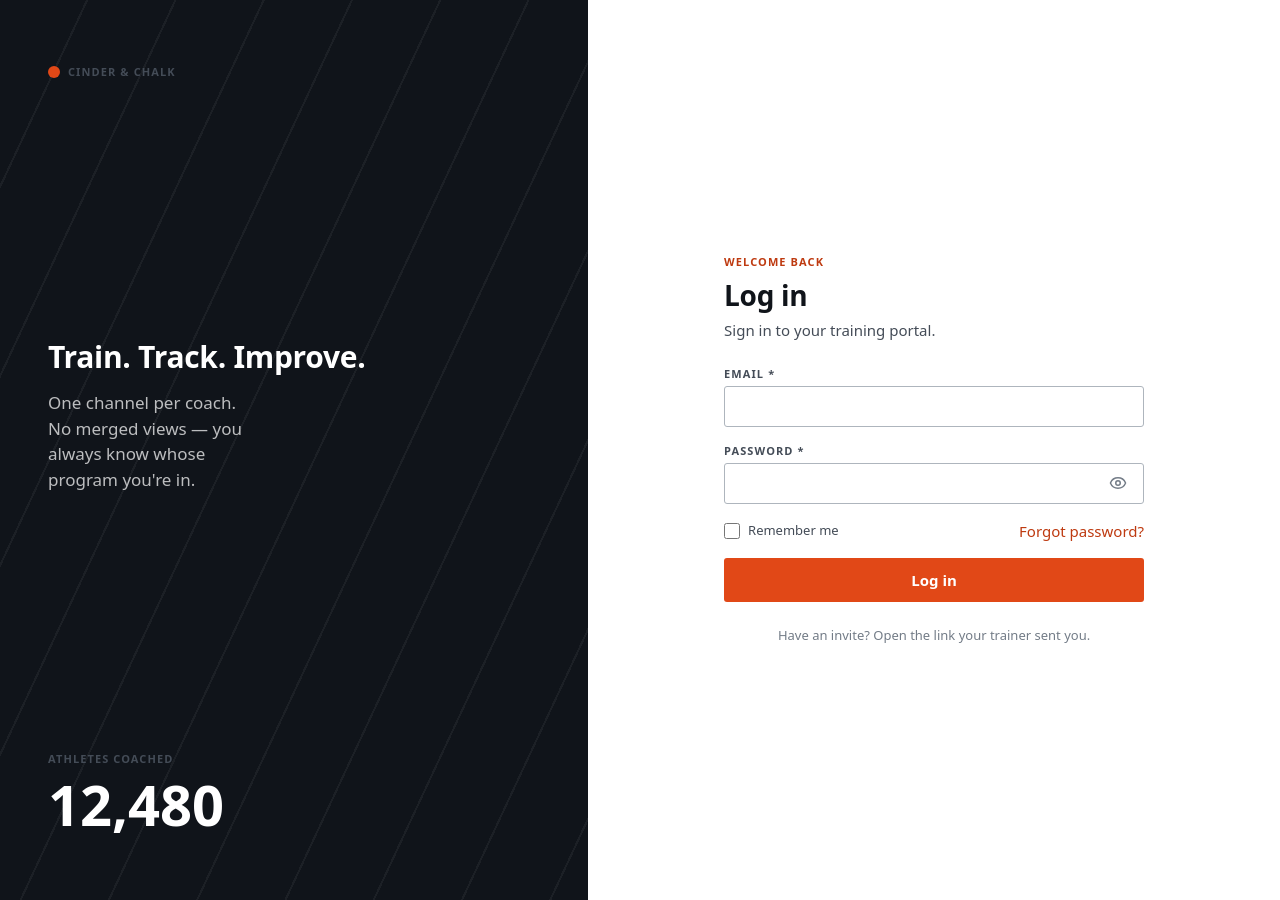
Login › distinguishes ACCOUNT_INACTIVE copy from invalid credentials (L3)
The width and height of the screenshot is (1280, 900).
Step 1. Type "dana@x.com" into the field labelled "Email *" → (934, 406), box [724,386,1144,427]
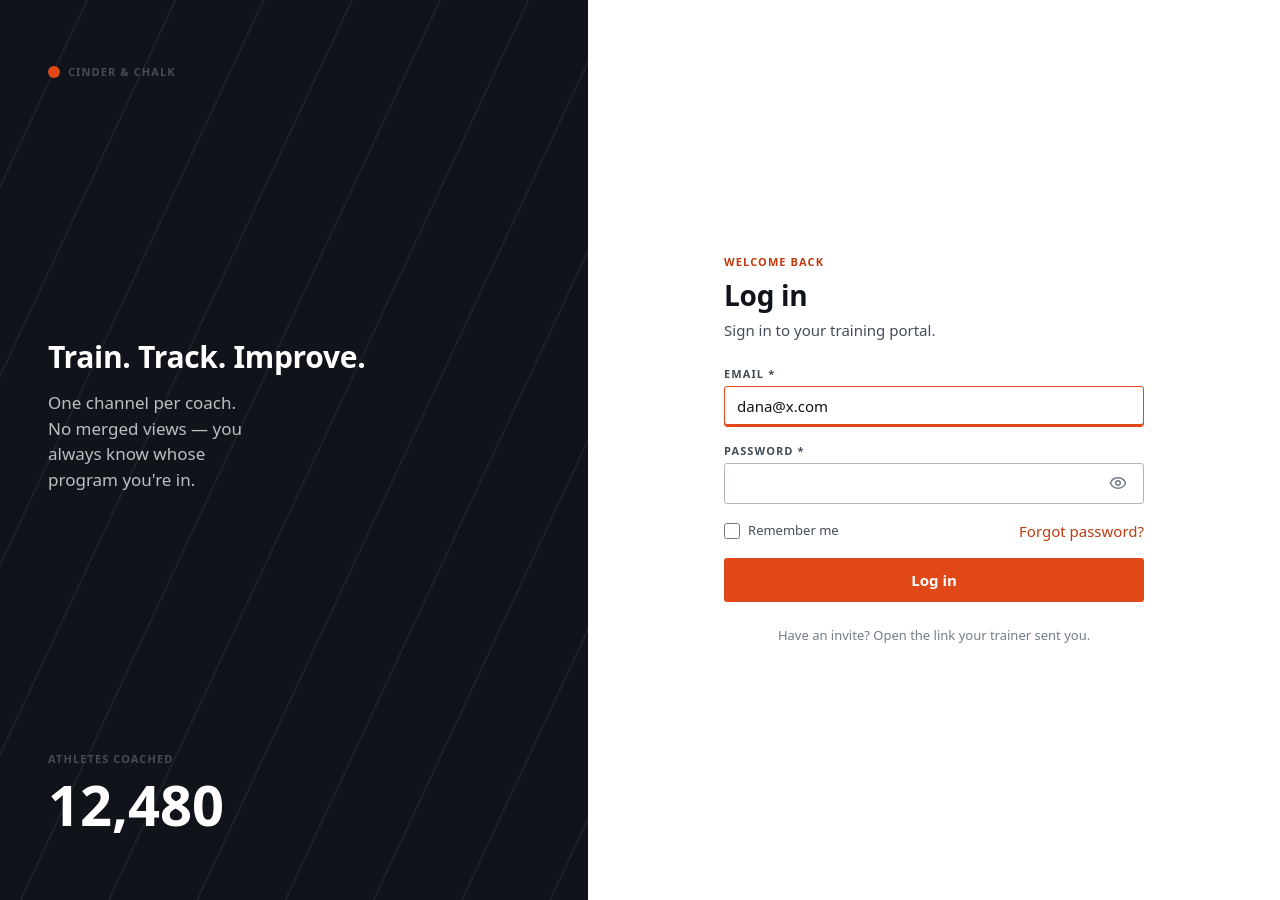
Step 2. Type "secret123" into the password field labelled "Password *" → (934, 483), box [724,463,1144,504]
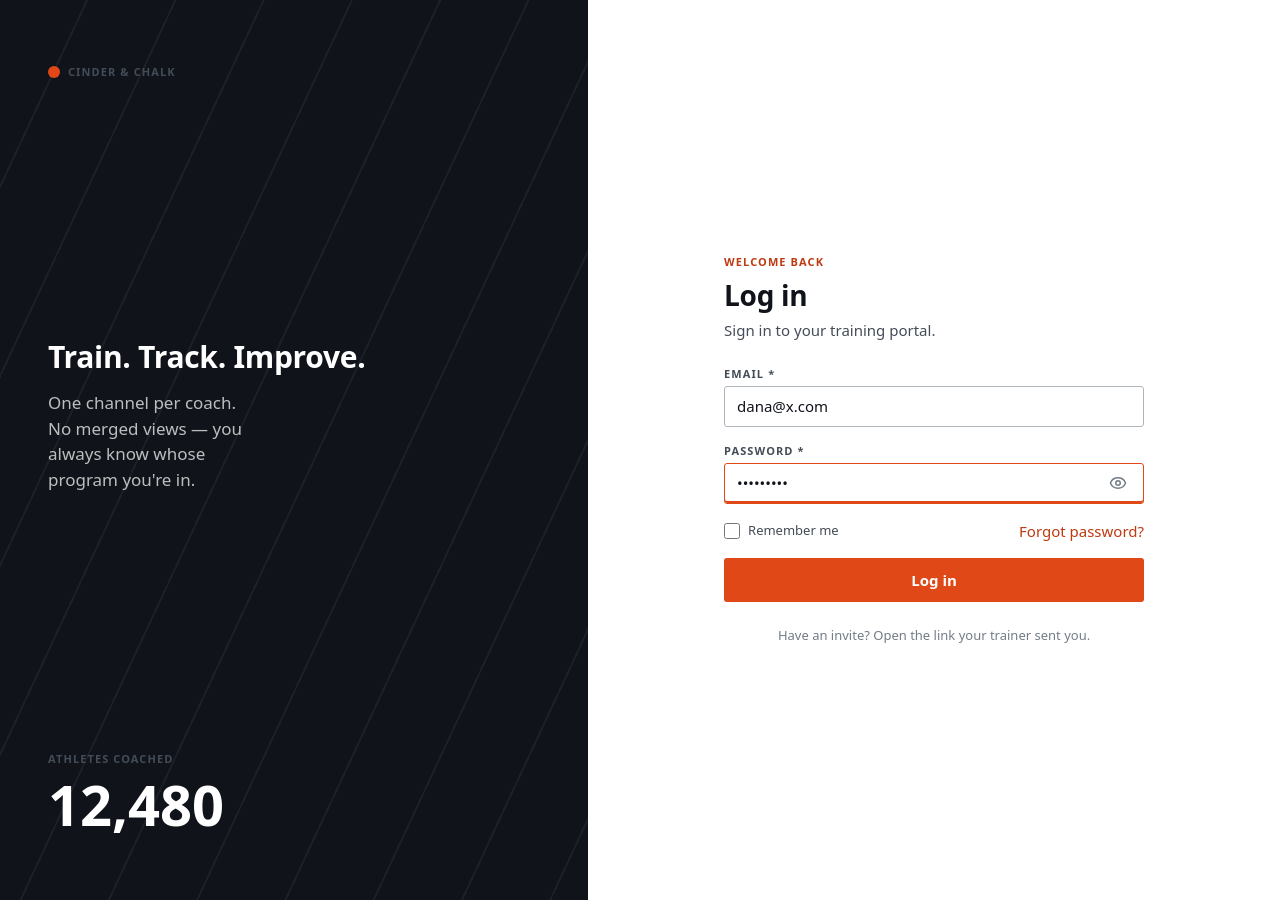
Step 3. Click the button "Log in" → (934, 580), box [724,558,1144,602]
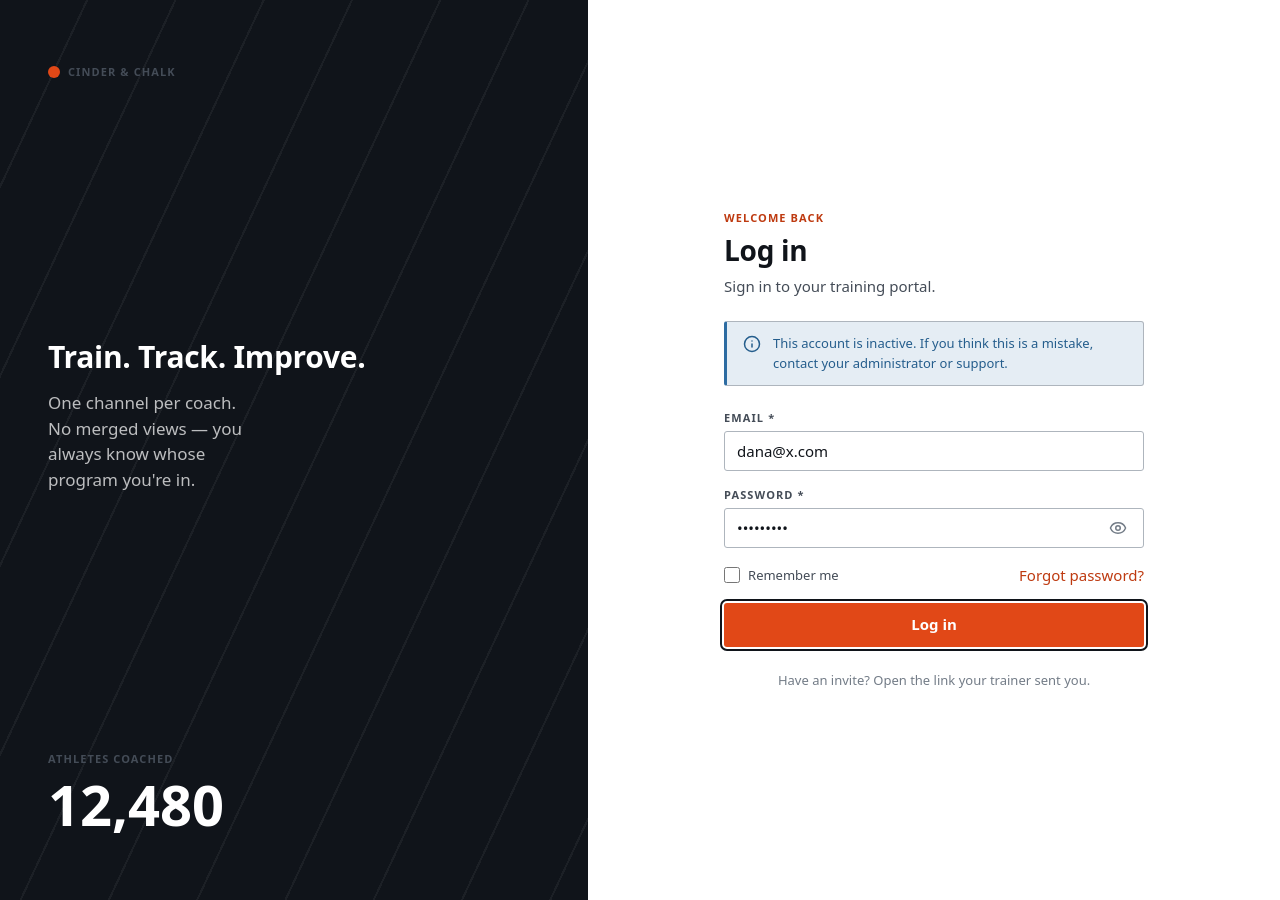
Check: the text "This account is inactive" is shown, box [773,334,1093,372]
